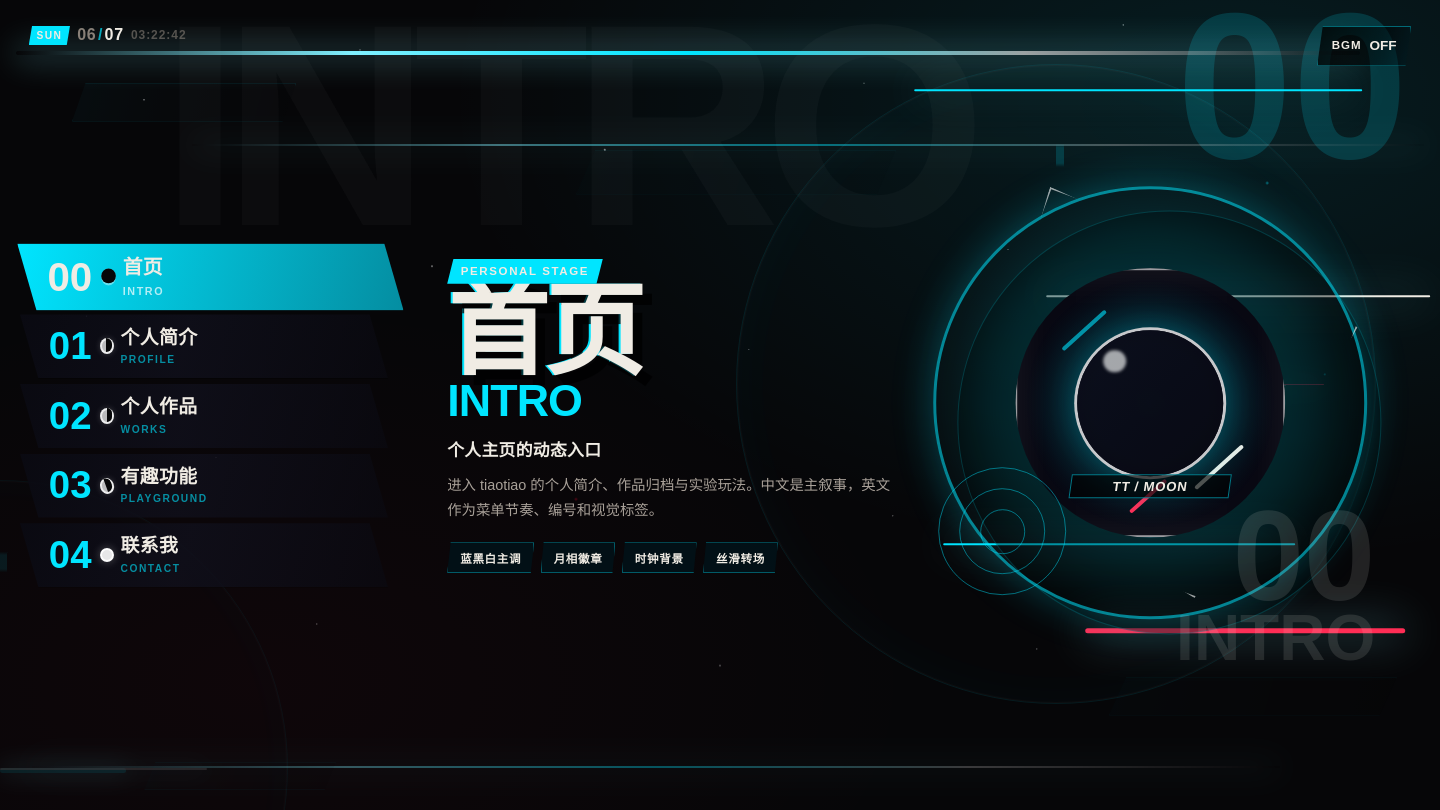
Test: Stage menu experience › opens the memory album subpage with a real memory tree download
Step 1. Click the button "03 有趣功能 PLAYGROUND" → (70, 485), box [20, 454, 388, 518]
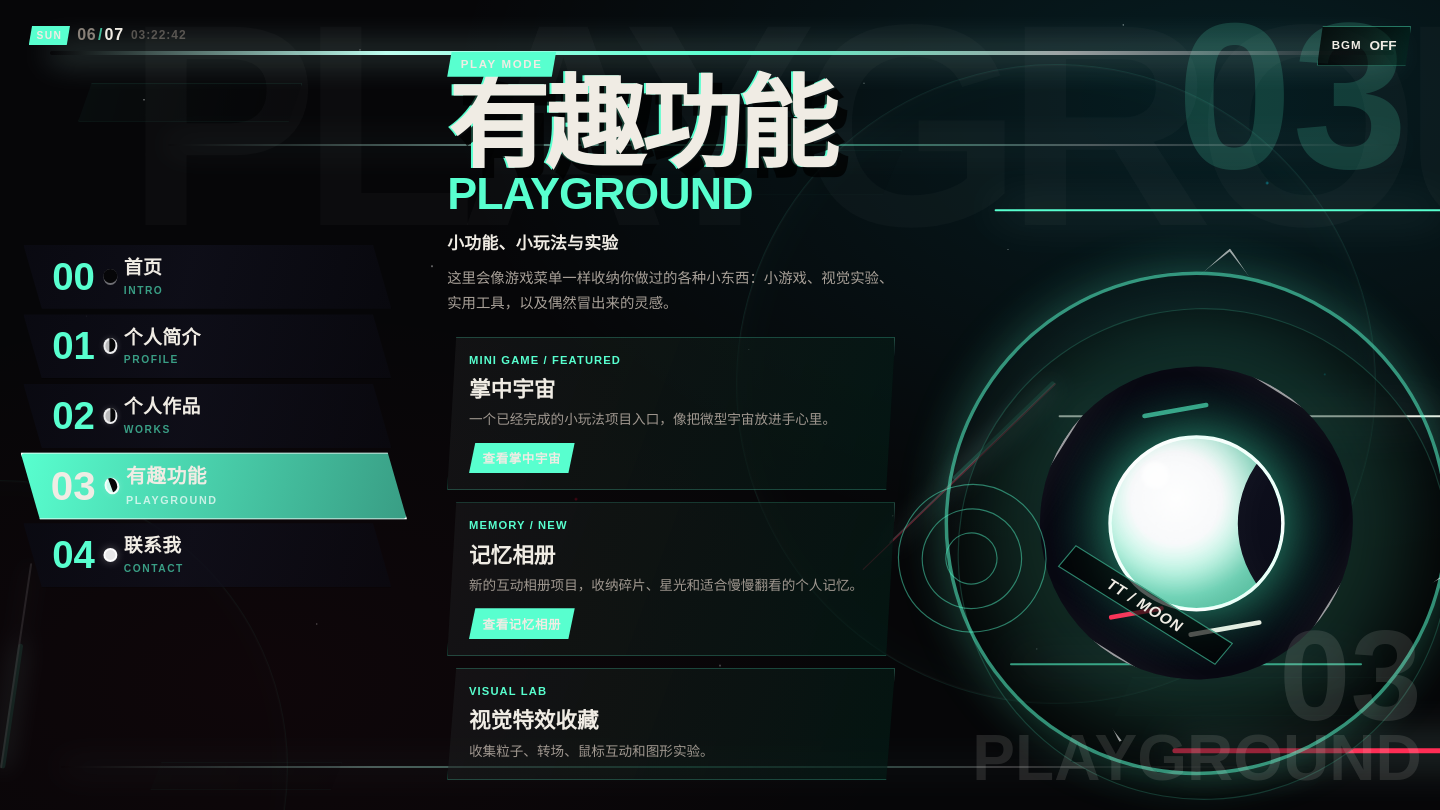
Step 2. Click the link "查看记忆相册" → (522, 624), box [469, 608, 575, 639]
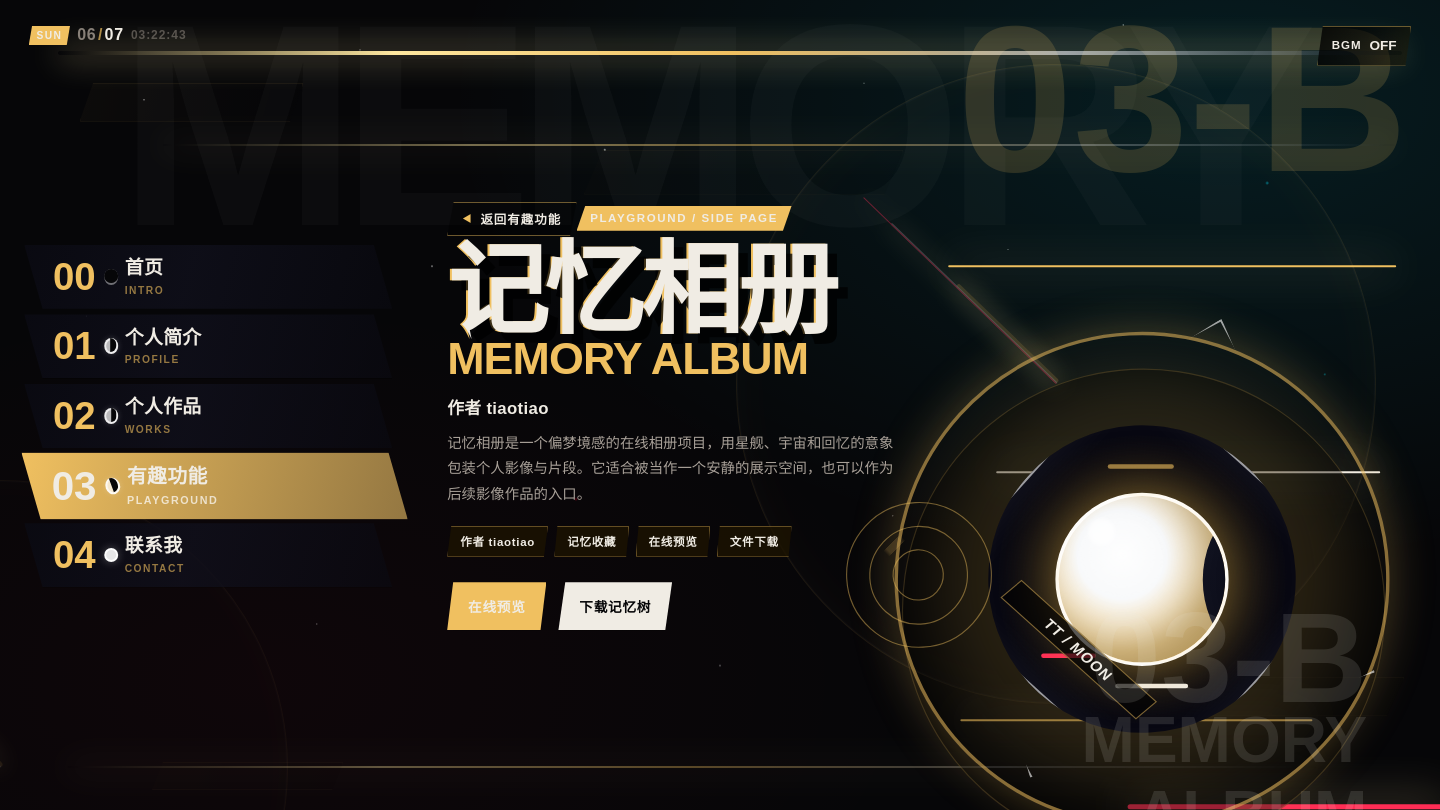
Now the heading "记忆相册" is shown, box [447, 252, 895, 331]
Now the 1st text "作者 tiaotiao" is shown, box [447, 399, 549, 418]
